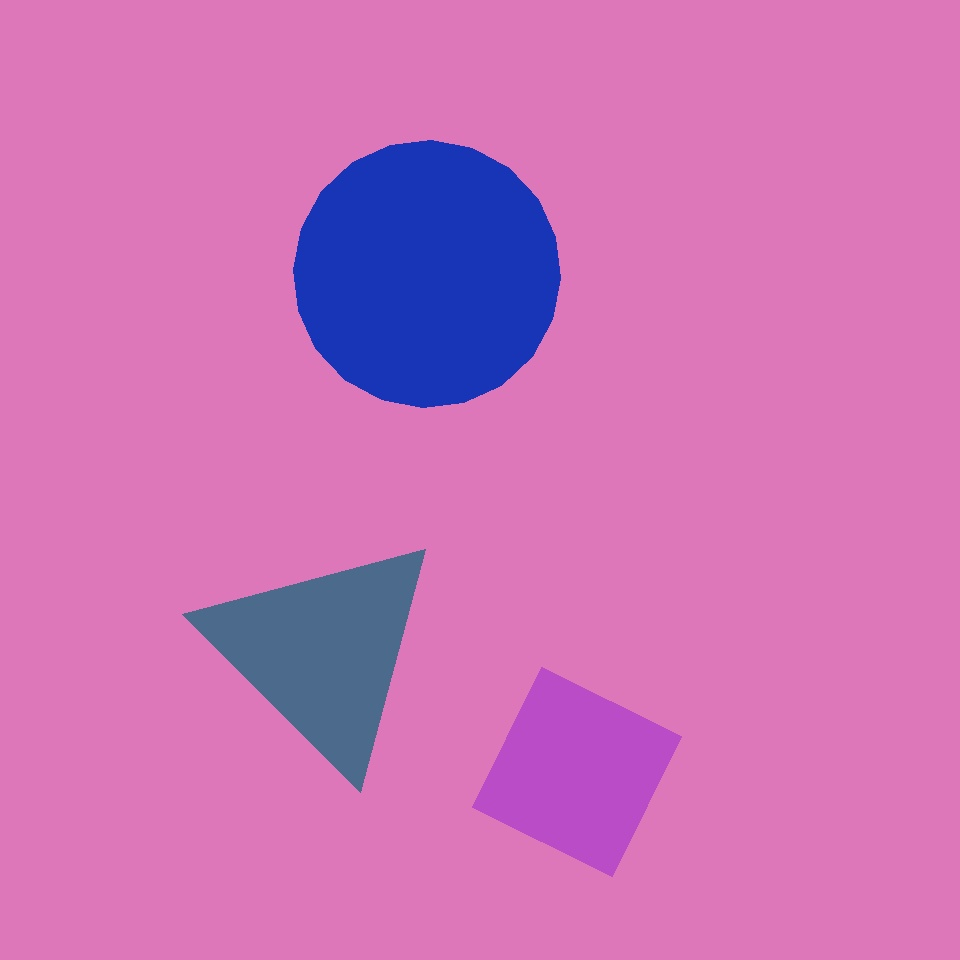circle: (105, 645, 387, 922), (202, 530, 444, 774)
square: (472, 668, 682, 876)
triangle: (293, 140, 560, 407), (420, 416, 667, 663)
